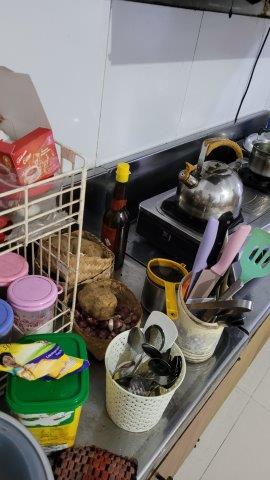botolkaca: (100, 162, 132, 272)
